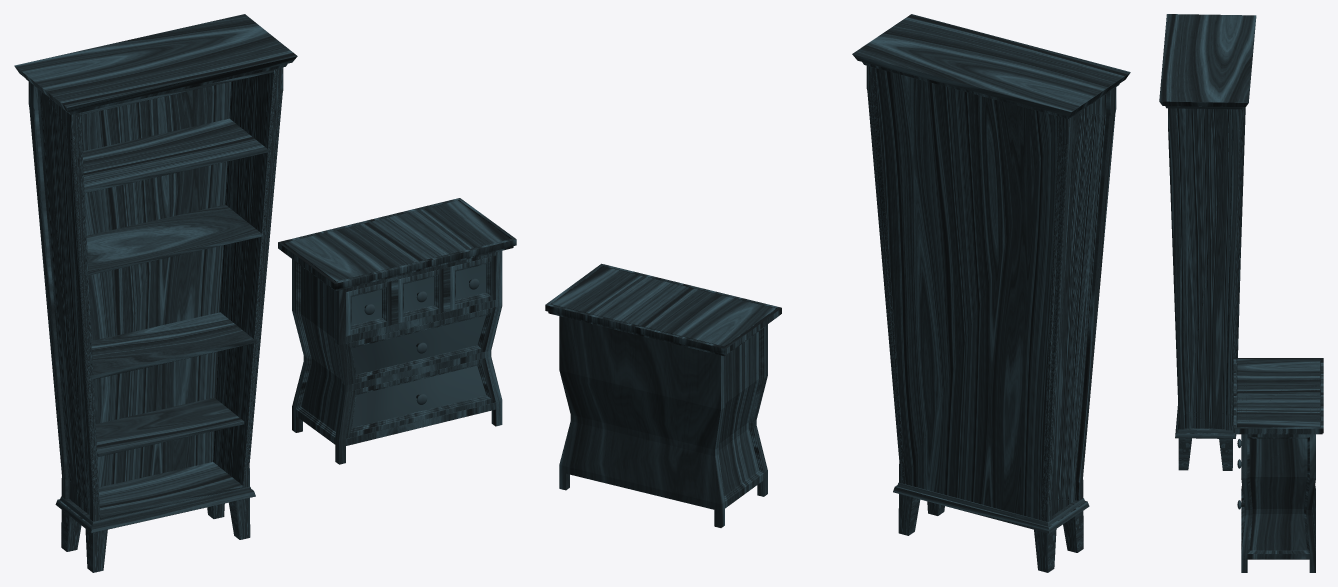
The model's file is Bookshelf_Cabinet.fbx.
3 renders of one model, left to right at view 1: azimuth 30°, elevation 25°; view 2: azimuth 150°, elevation 25°; view 3: azimuth 270°, elevation 25°, orthographic. The views are drawn at different scales.
Visible parts, largest first — view 1: obj_04, Retro Cabinet.001; view 2: obj_04, Retro Cabinet.001; view 3: obj_04, Retro Cabinet.001.
Boxes of the visible parts, bbox=[...] form: obj_04: bbox=[14, 14, 297, 572]; Retro Cabinet.001: bbox=[278, 198, 516, 464]; obj_04: bbox=[852, 14, 1130, 572]; Retro Cabinet.001: bbox=[545, 263, 781, 527]; obj_04: bbox=[1159, 14, 1256, 470]; Retro Cabinet.001: bbox=[1233, 358, 1323, 572].
Size of the model in its own units: 2.11 by 1.97 by 0.7693.
